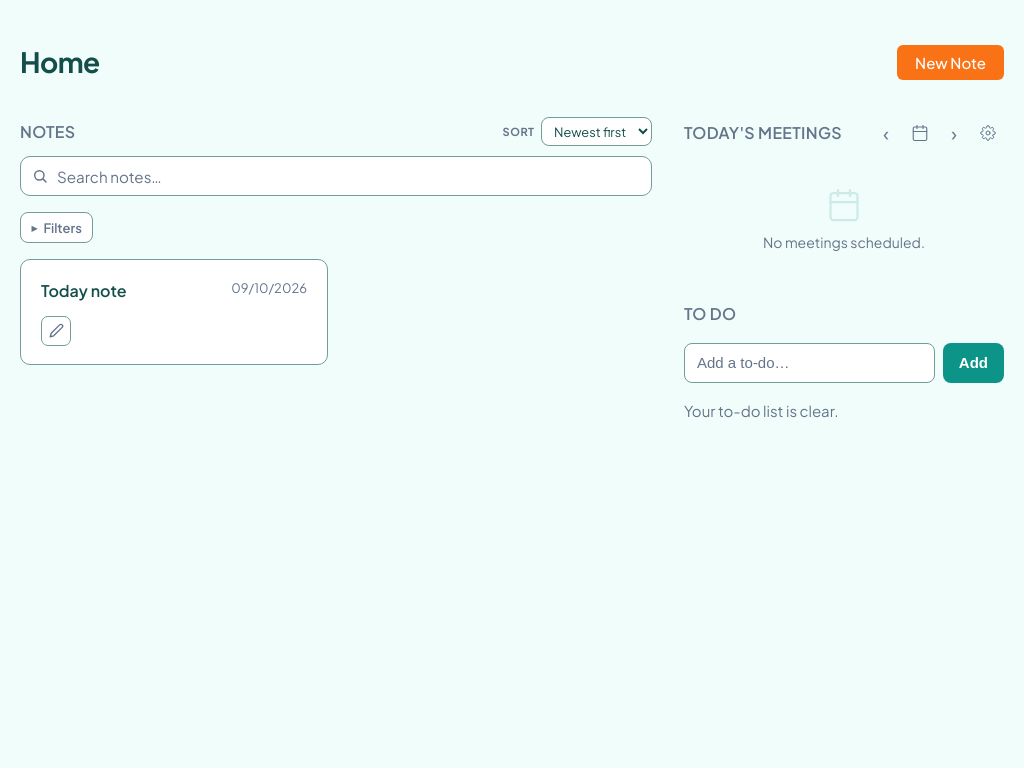
Test case: ListView — home default window + date-range filter (40-A) › returns to the default window when the range is reset to Last 30 days
The image size is (1024, 768).
Click the button "▸ Filters" at (57, 228), box left=20, top=212, right=93, bottom=243
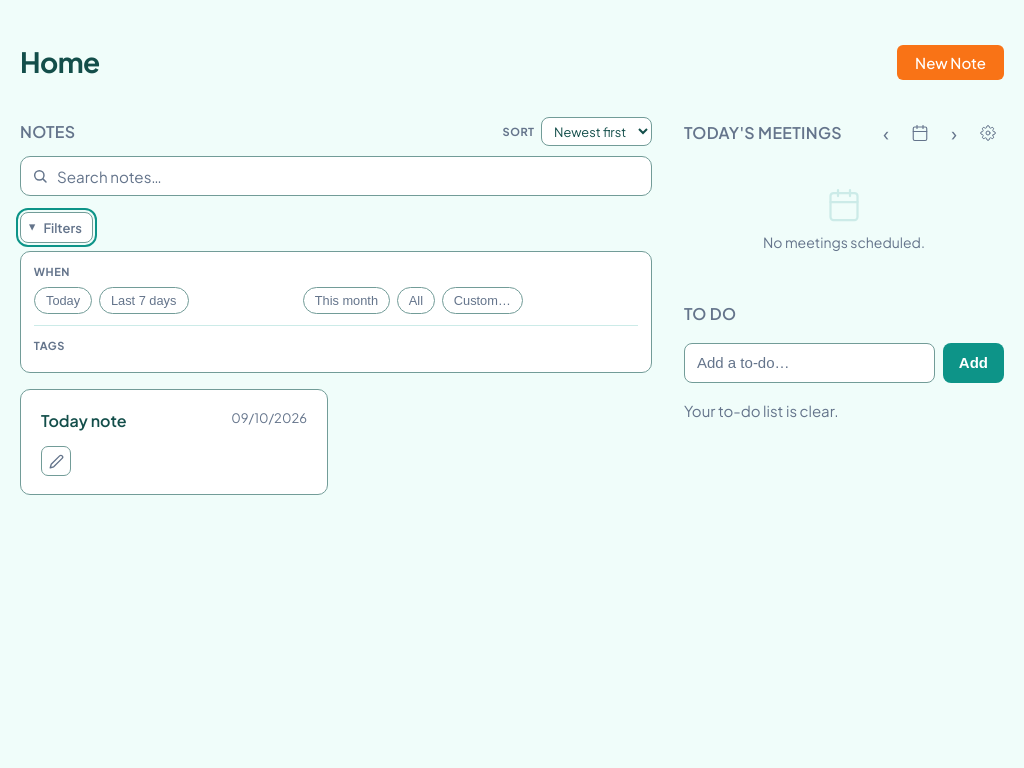
Click the button with test id "range-preset-all" at (416, 300), box left=397, top=287, right=435, bottom=314
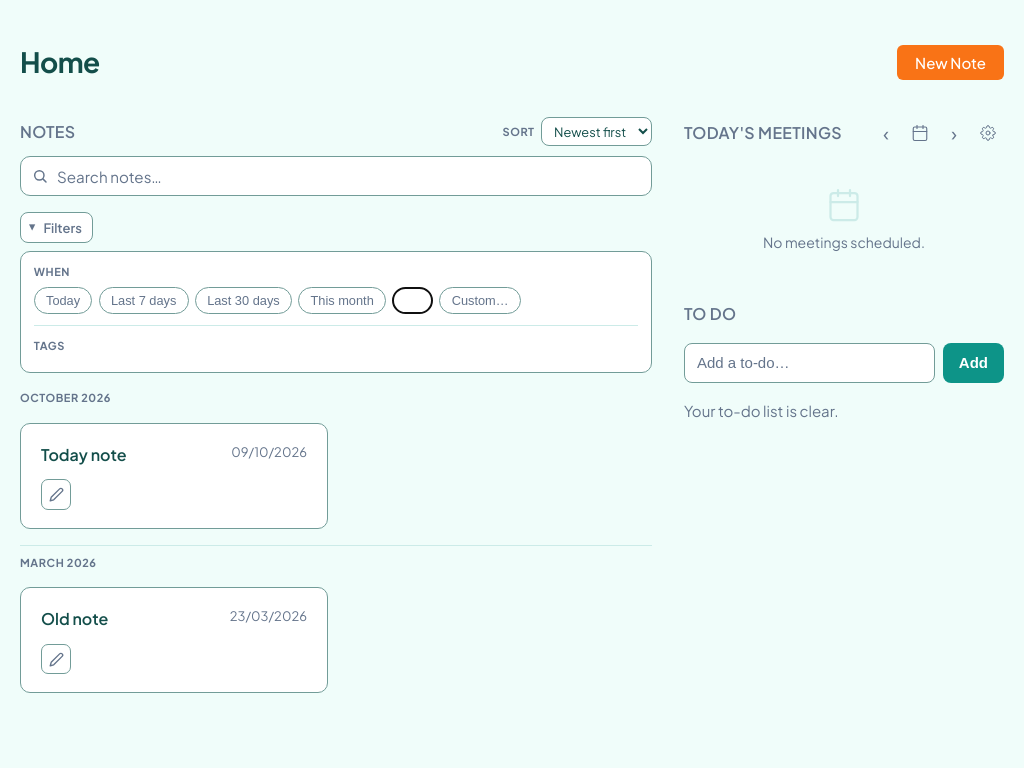
Check: the heading "Old note" is shown, box left=41, top=608, right=108, bottom=629
Click the button with test id "range-preset-30" at (243, 300), box left=195, top=287, right=292, bottom=314
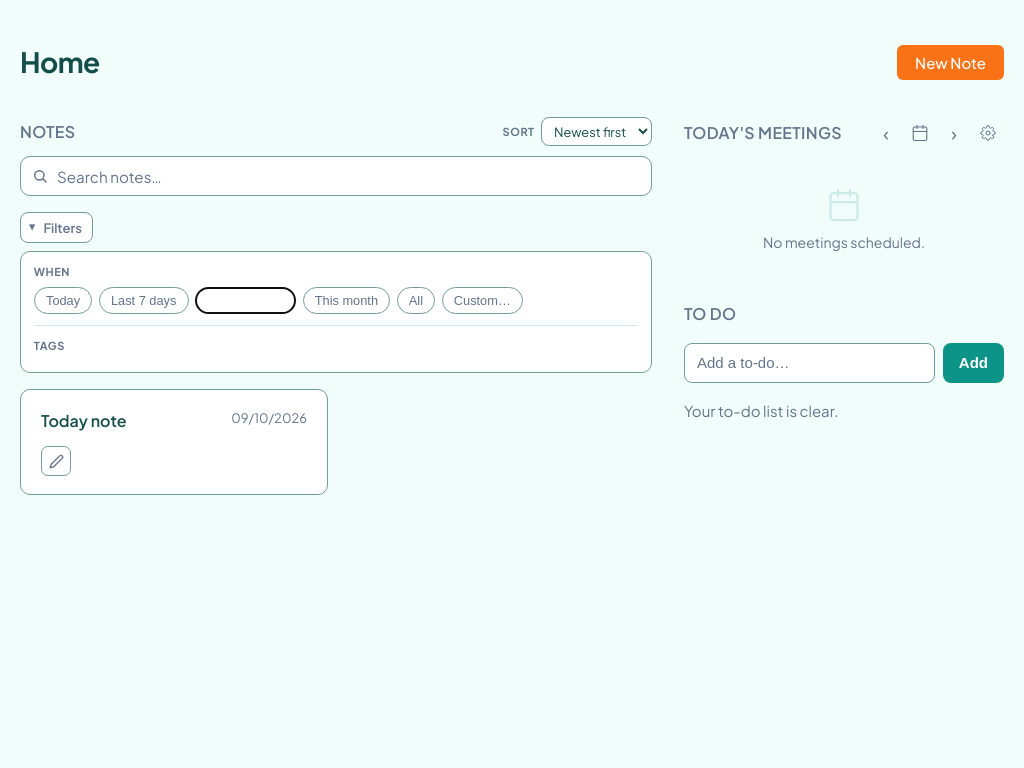
Check: the heading "Today note" is shown, box left=41, top=410, right=126, bottom=431
Check: the heading "Old note" is gone
